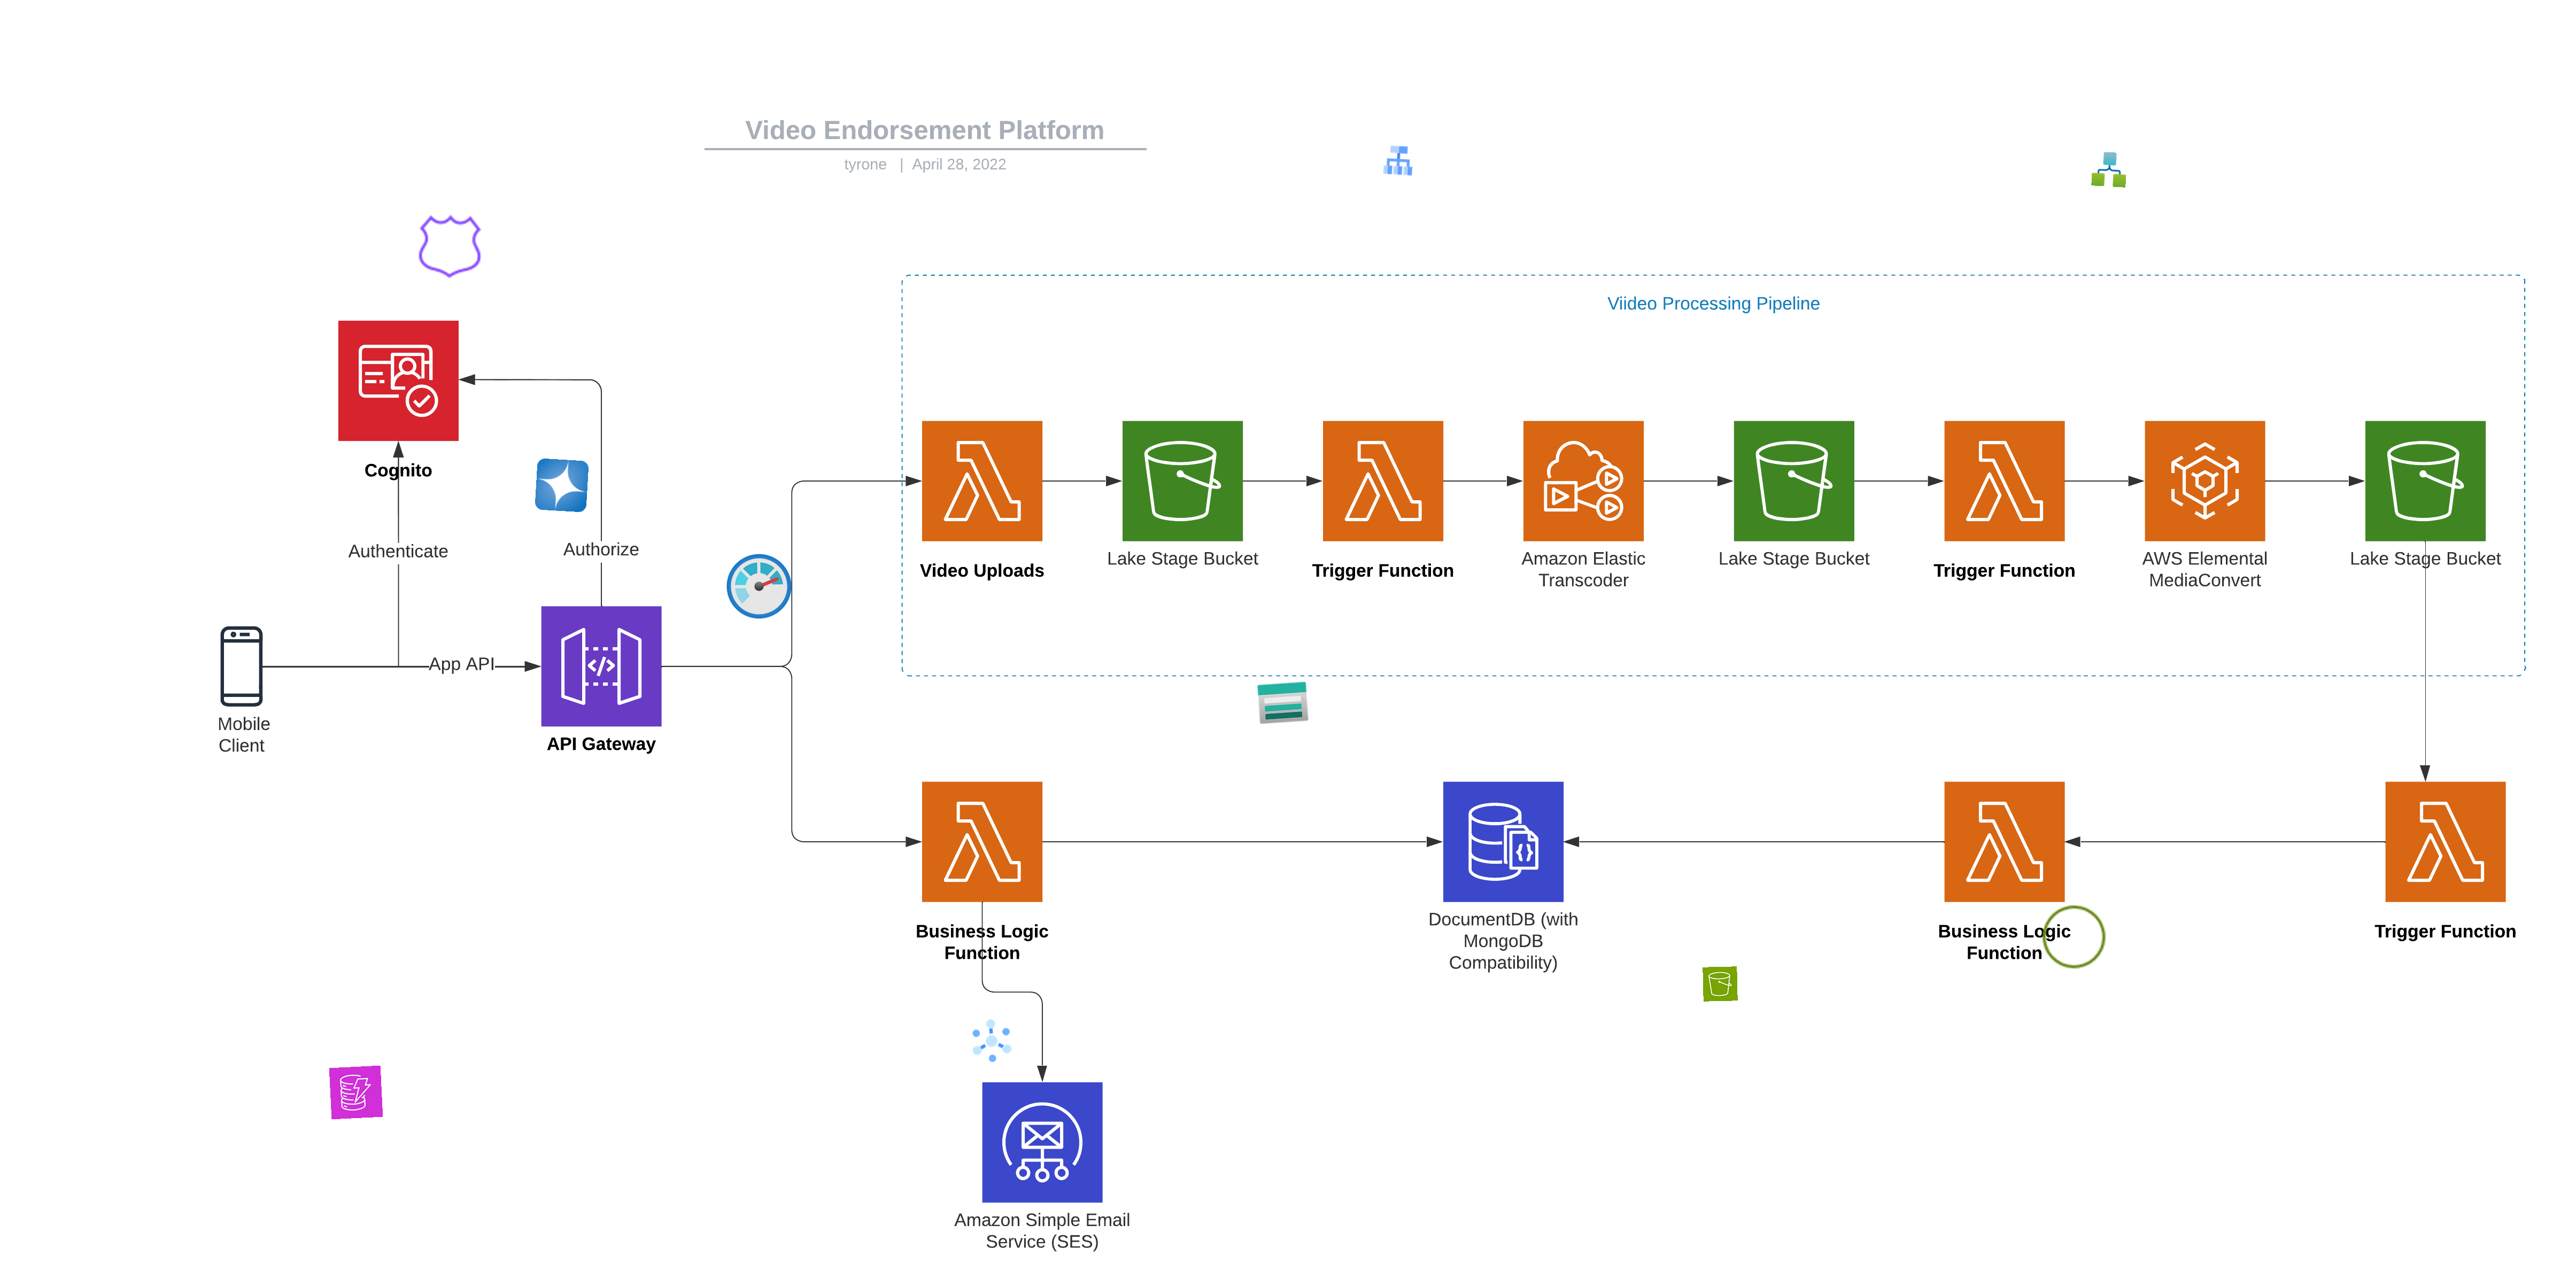aws_amazon_dynamodb: (329, 1065, 383, 1120)
aws_amazon_simple_storage_service: (1702, 967, 1738, 1001)
aws_route_53_hosted_zone: (416, 212, 486, 282)
aws_simple_storage_service_object: (2039, 901, 2109, 973)
azure_logic_apps: (2091, 151, 2128, 187)
azure_monitor: (725, 552, 795, 622)
azure_openai: (534, 458, 590, 512)
azure_storage_accounts: (1255, 675, 1311, 731)
gcp_cloud_load_balancing: (1380, 143, 1416, 179)
gcp_pubsub: (964, 1013, 1019, 1069)
